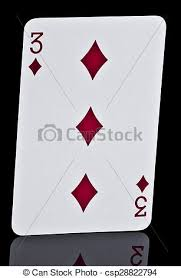three of dimaonds: (11, 13, 168, 237)
